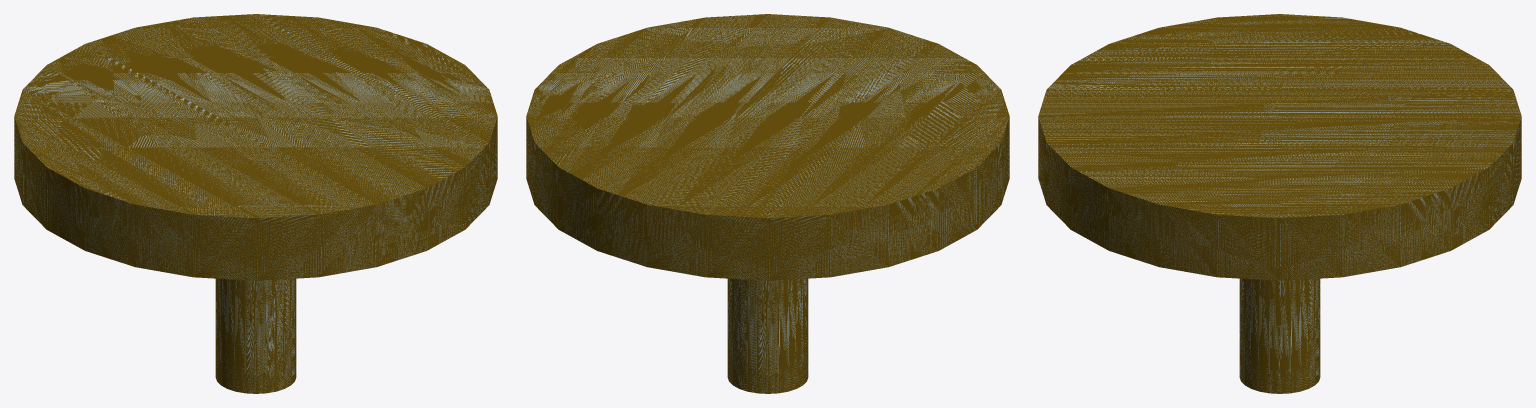
Rendered from fan.fbx.
3 renders of one model, left to right at view 1: azimuth 30°, elevation 25°; view 2: azimuth 150°, elevation 25°; view 3: azimuth 270°, elevation 25°, orthographic.
Parts seen in each view (by area): view 1: Group2; view 2: Group2; view 3: Group2.
Part boxes in pixels (x1,y1,x2,y2): Group2: [14, 14, 497, 393]; Group2: [526, 14, 1009, 393]; Group2: [1038, 14, 1521, 393].
Size of what is drawn, in the model's own units: 0.42 by 0.25 by 0.42.
